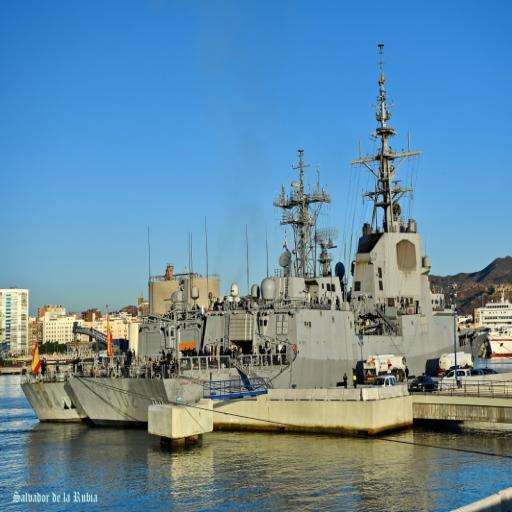Fragata: (64, 37, 488, 432)
